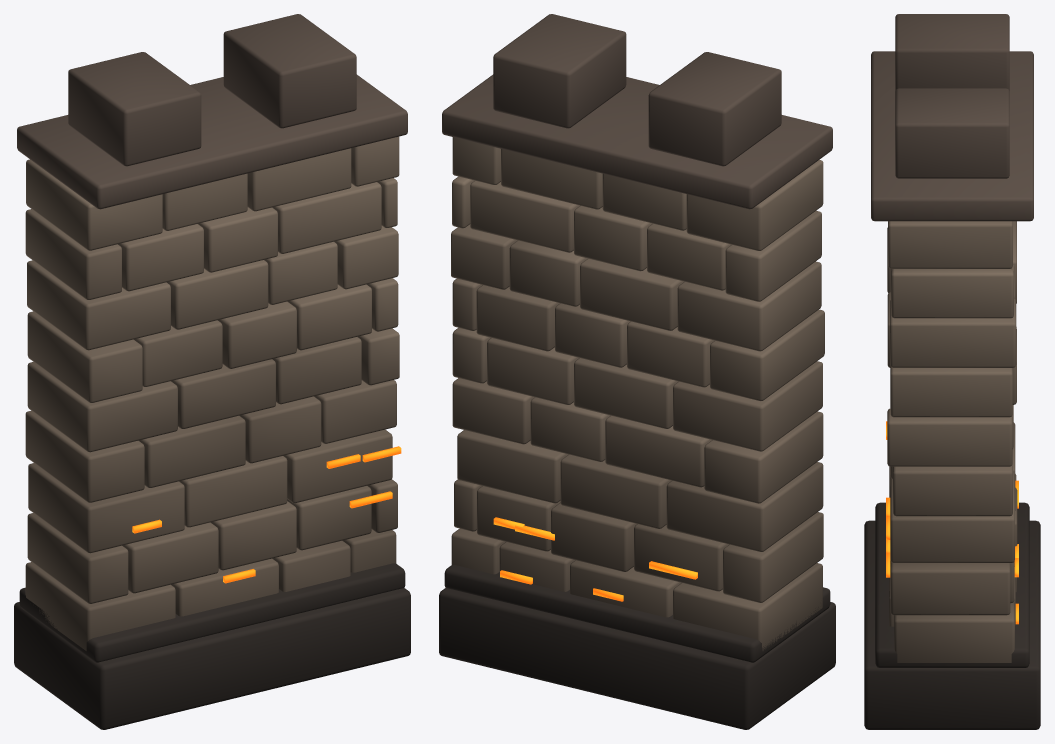
File: wall.glb
3 renders of one model, left to right at view 1: azimuth 30°, elevation 25°; view 2: azimuth 150°, elevation 25°; view 3: azimuth 270°, elevation 25°, orthographic.
Parts seen in each view (by area): view 1: wall_bricks, wall_cap, wall_plinth, wall_seams; view 2: wall_bricks, wall_cap, wall_plinth, wall_seams; view 3: wall_bricks, wall_cap, wall_plinth, wall_seams.
Part boxes in pixels (left/top/right/bottom): wall_bricks: left=25, top=136, right=399, bottom=650; wall_cap: left=17, top=14, right=407, bottom=209; wall_plinth: left=14, top=563, right=410, bottom=729; wall_seams: left=132, top=446, right=401, bottom=583; wall_bricks: left=451, top=137, right=824, bottom=650; wall_cap: left=442, top=14, right=832, bottom=209; wall_plinth: left=439, top=565, right=835, bottom=729; wall_seams: left=493, top=517, right=697, bottom=601; wall_bricks: left=887, top=221, right=1017, bottom=662; wall_cap: left=871, top=14, right=1033, bottom=221; wall_plinth: left=864, top=502, right=1040, bottom=729; wall_seams: left=886, top=421, right=1018, bottom=624.
Size of the model in its own units: 4 by 7.38 by 2.
